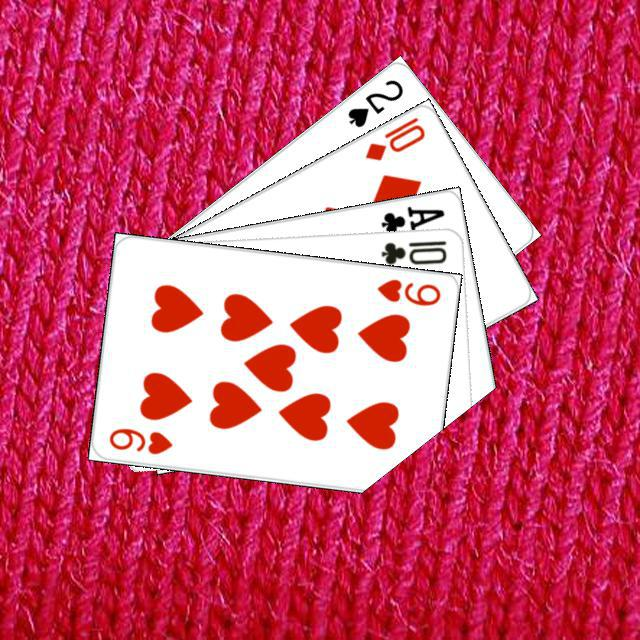10c: (376, 235, 449, 267)
10d: (360, 112, 427, 163)
2s: (342, 74, 405, 130)
9h: (371, 274, 443, 308), (104, 423, 175, 456)
Ac: (376, 201, 447, 236)
